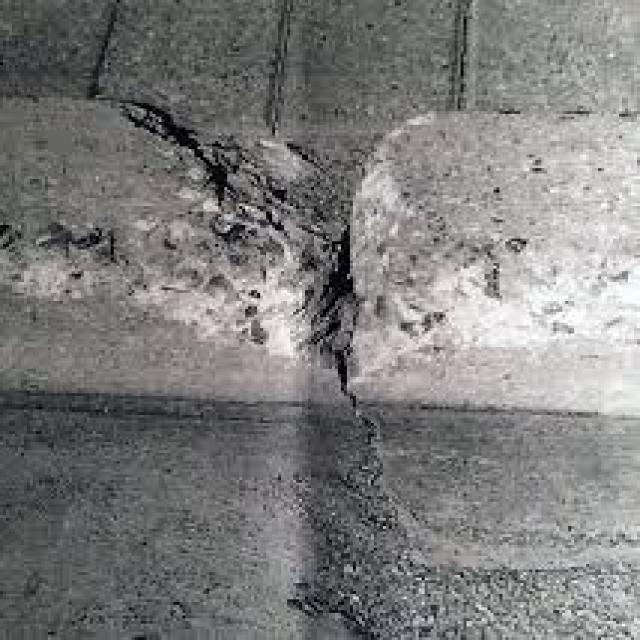curb: (10, 95, 349, 398), (349, 117, 633, 406)
